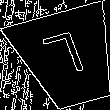L_S: (42, 30, 94, 87)
